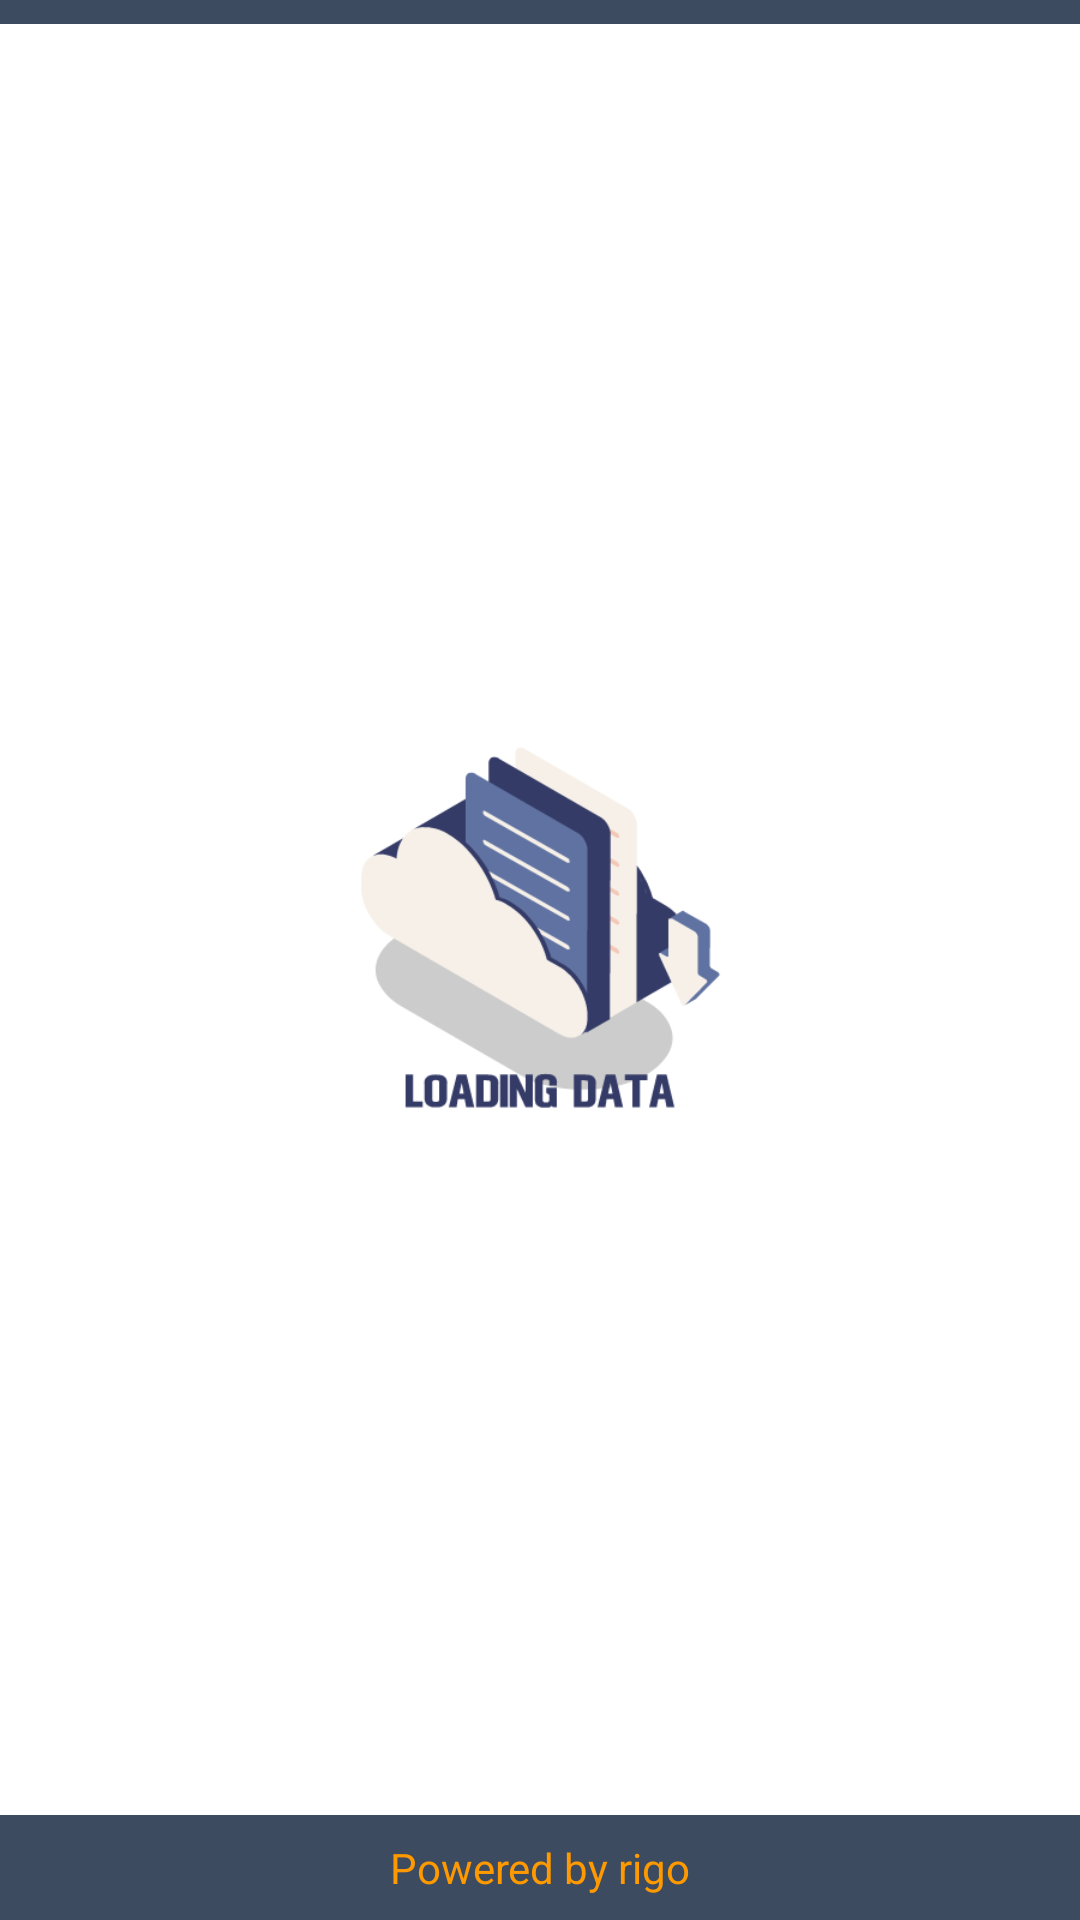

Icons on this 1080*1920 Android screen, each with its box as (x1, y1, x2, y2):
downloading: (373, 756, 720, 1108)
